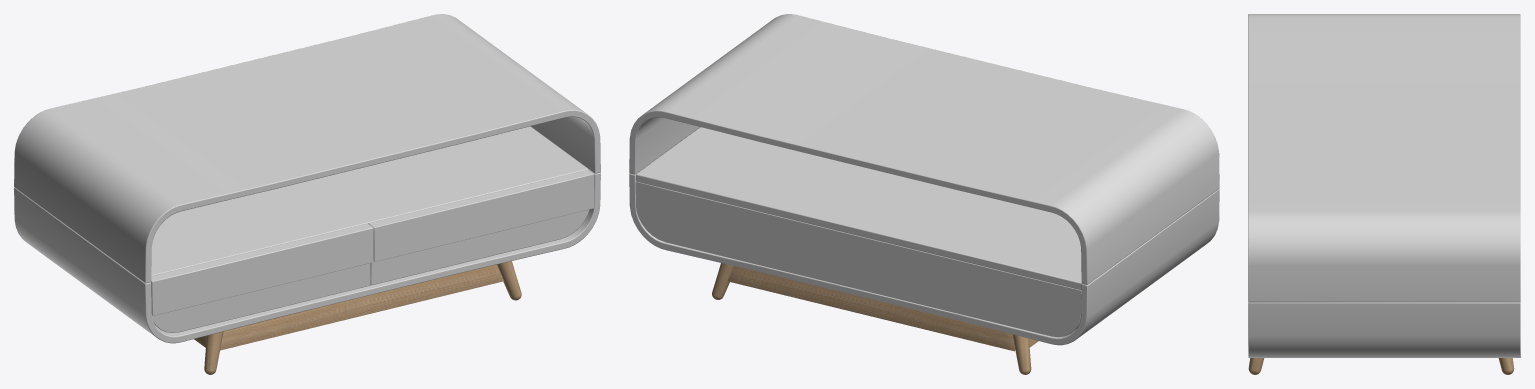
Rendered from esme.gltf.
The picture shows the model from 3 angles, left to right: view 1: azimuth 30°, elevation 25°; view 2: azimuth 150°, elevation 25°; view 3: azimuth 270°, elevation 25°; orthographic projection. The views are drawn at different scales.
Visible parts, largest first — view 1: Esme_Coffee_Table_with_2_Drawers_Ash_WHITE_0, Esme_Coffee_Table_with_2_Drawers_Ash_ASH_0; view 2: Esme_Coffee_Table_with_2_Drawers_Ash_WHITE_0, Esme_Coffee_Table_with_2_Drawers_Ash_ASH_0; view 3: Esme_Coffee_Table_with_2_Drawers_Ash_WHITE_0, Esme_Coffee_Table_with_2_Drawers_Ash_ASH_0.
Part boxes in pixels (bbox=[...]): Esme_Coffee_Table_with_2_Drawers_Ash_WHITE_0: bbox=[14, 14, 600, 343]; Esme_Coffee_Table_with_2_Drawers_Ash_ASH_0: bbox=[194, 261, 521, 374]; Esme_Coffee_Table_with_2_Drawers_Ash_WHITE_0: bbox=[629, 14, 1219, 345]; Esme_Coffee_Table_with_2_Drawers_Ash_ASH_0: bbox=[712, 263, 1038, 374]; Esme_Coffee_Table_with_2_Drawers_Ash_WHITE_0: bbox=[1248, 14, 1520, 357]; Esme_Coffee_Table_with_2_Drawers_Ash_ASH_0: bbox=[1248, 358, 1514, 374].
Size of what is drawn, in the model's own units: 120 by 45.37 by 60.17.
Materials: 2 (1 with a texture image).
